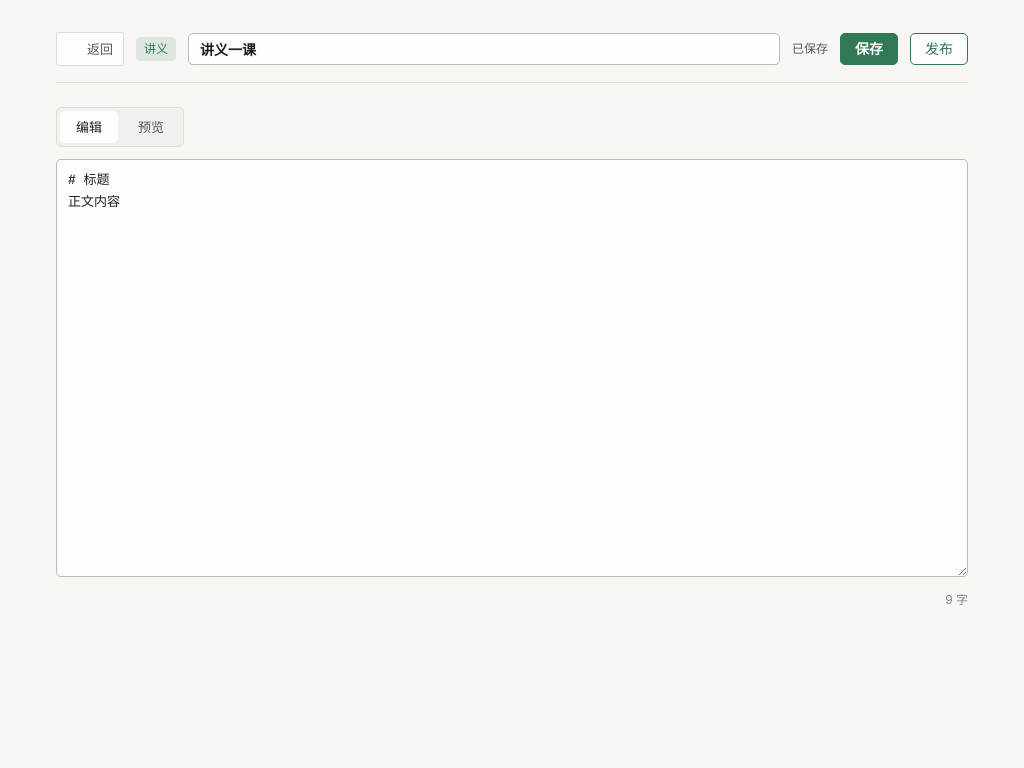
Test: LessonMarkdownEditor › 保存成功后快照重置，状态回到已保存
The image size is (1024, 768).
Step 1. Replace the text in the text box with class "content-textarea" with "改动" → coordinates (512, 368), box [56,159,968,577]
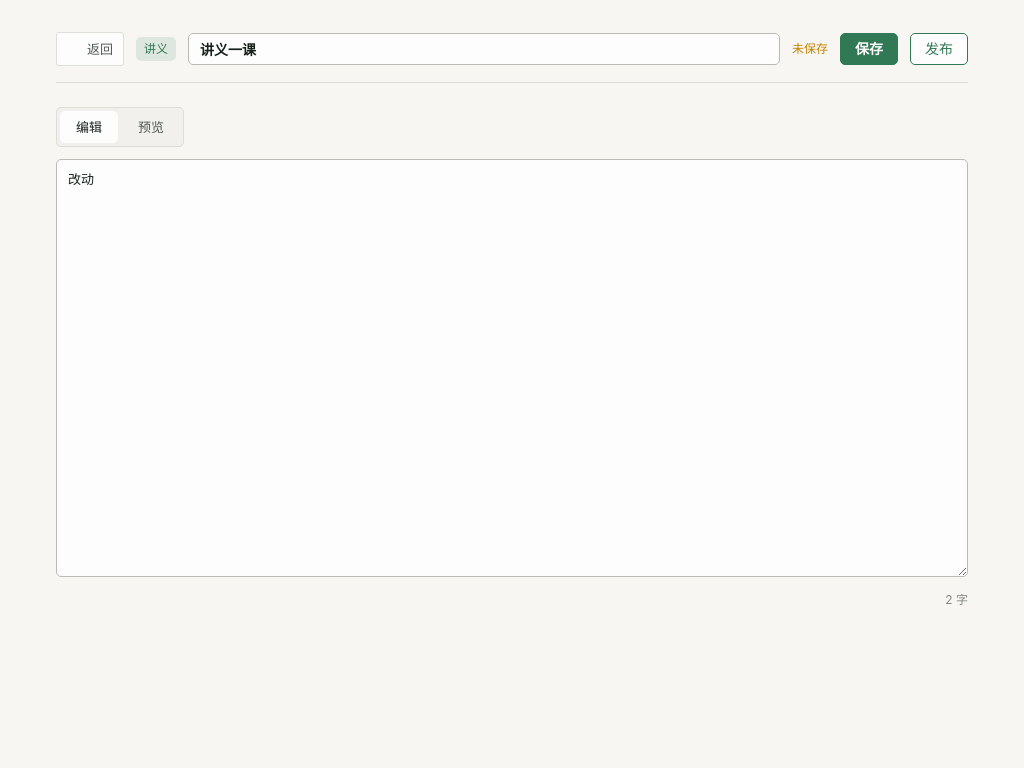
Expected: the text with class "save-state" reads "未保存", [792,41,828,56]
Step 2. Click the button with class "save-btn" → coordinates (869, 49), box [840,33,898,65]
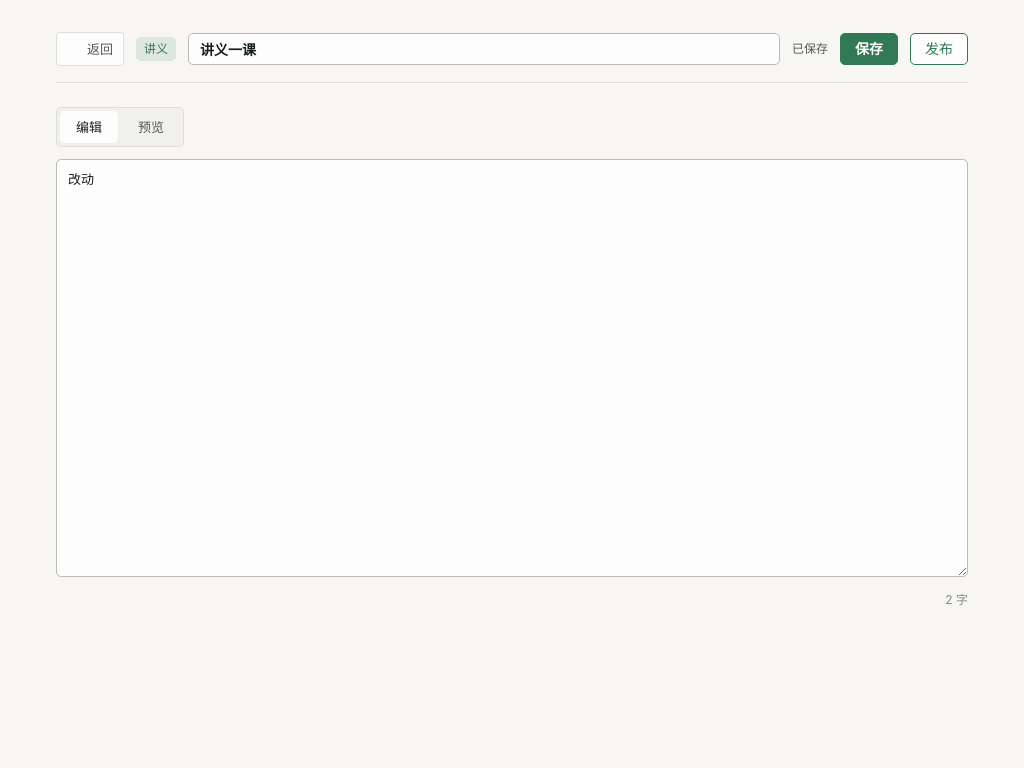
Expected: the text with class "save-state" reads "已保存", [792,41,828,56]
